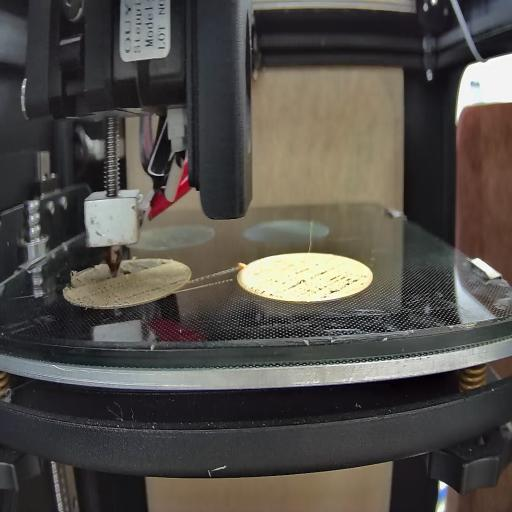under_extrusion: (252, 270, 364, 300), (63, 258, 135, 286), (152, 277, 186, 295)
